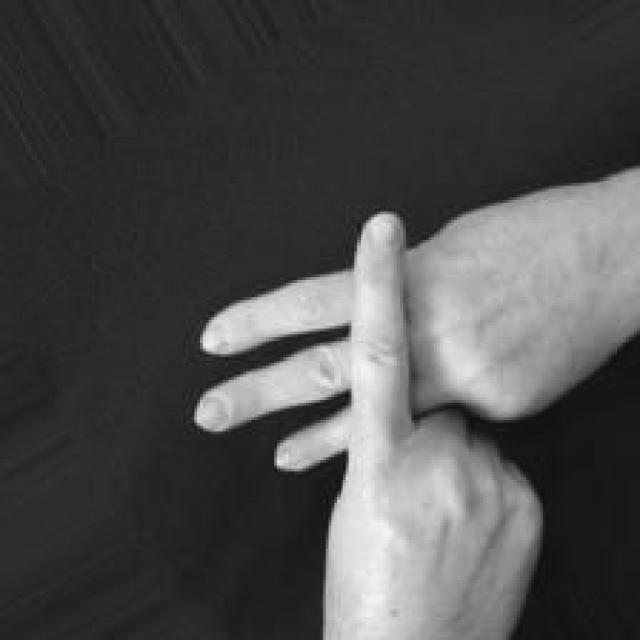E: (185, 185, 640, 640)
